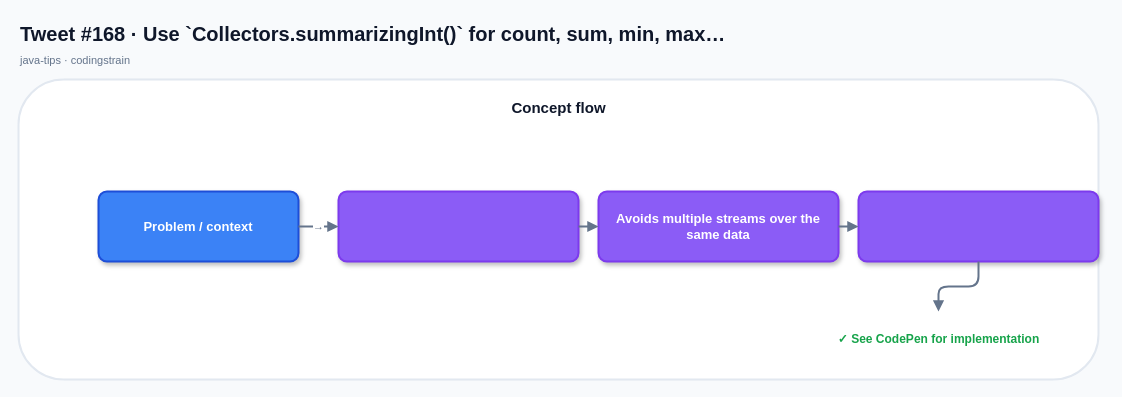
Image size: 1122x397. Some labels were removed from this diagram. The centre of each missing label's shape, as x and y in pixels:
"Returns an `IntSummaryStatistics` object" goes at [979,227].
"💡 Use `Collectors.summarizingInt()` for count, sum, min, max, and avg" goes at [459,227].
